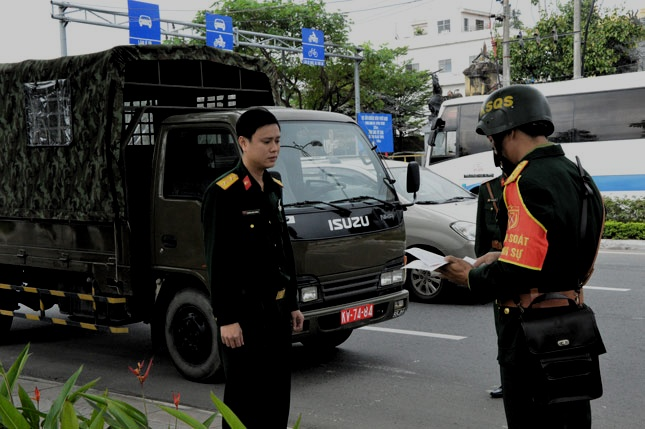plate: (336, 301, 376, 326)
